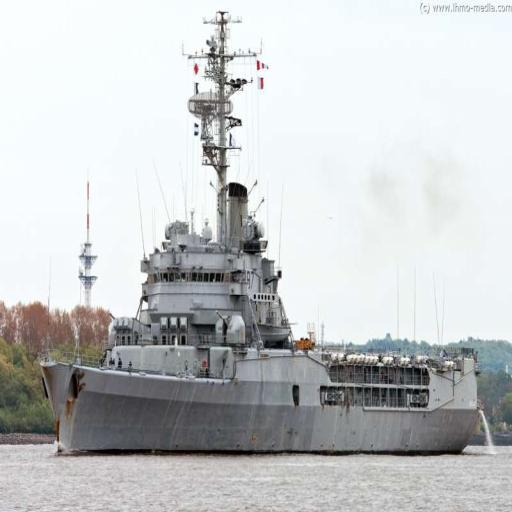Portanaves: (40, 2, 484, 461)
